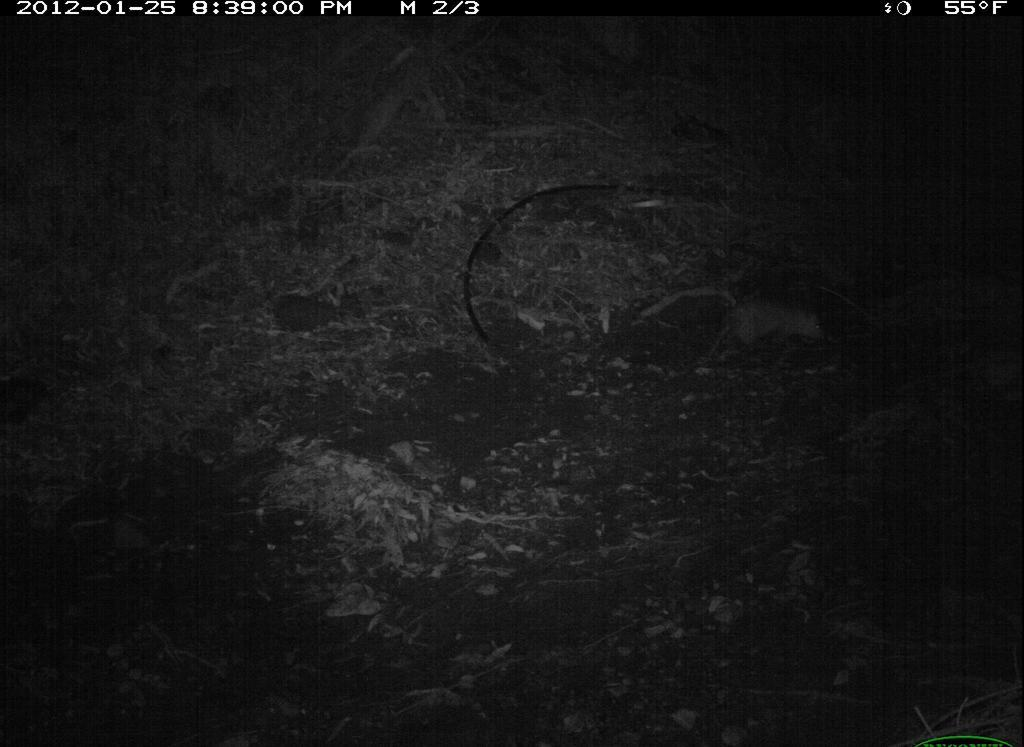opossum: (681, 294, 840, 360)
